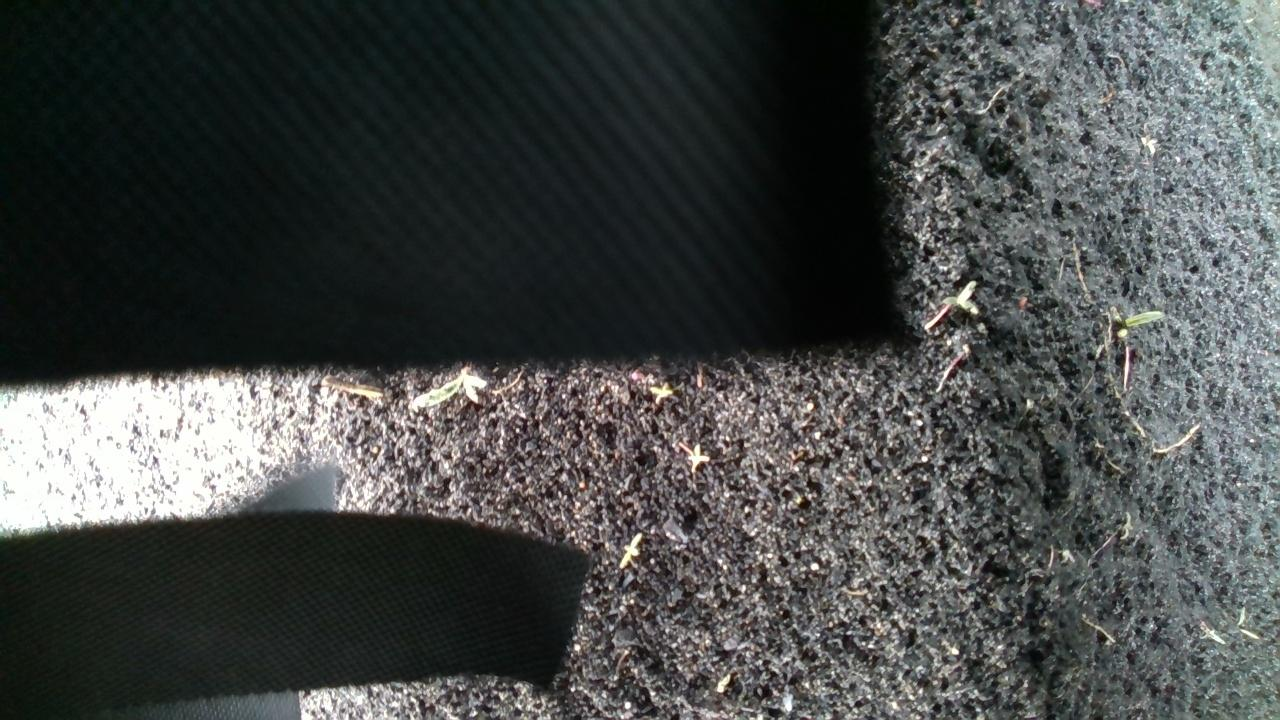weed: (1105, 304, 1159, 345)
